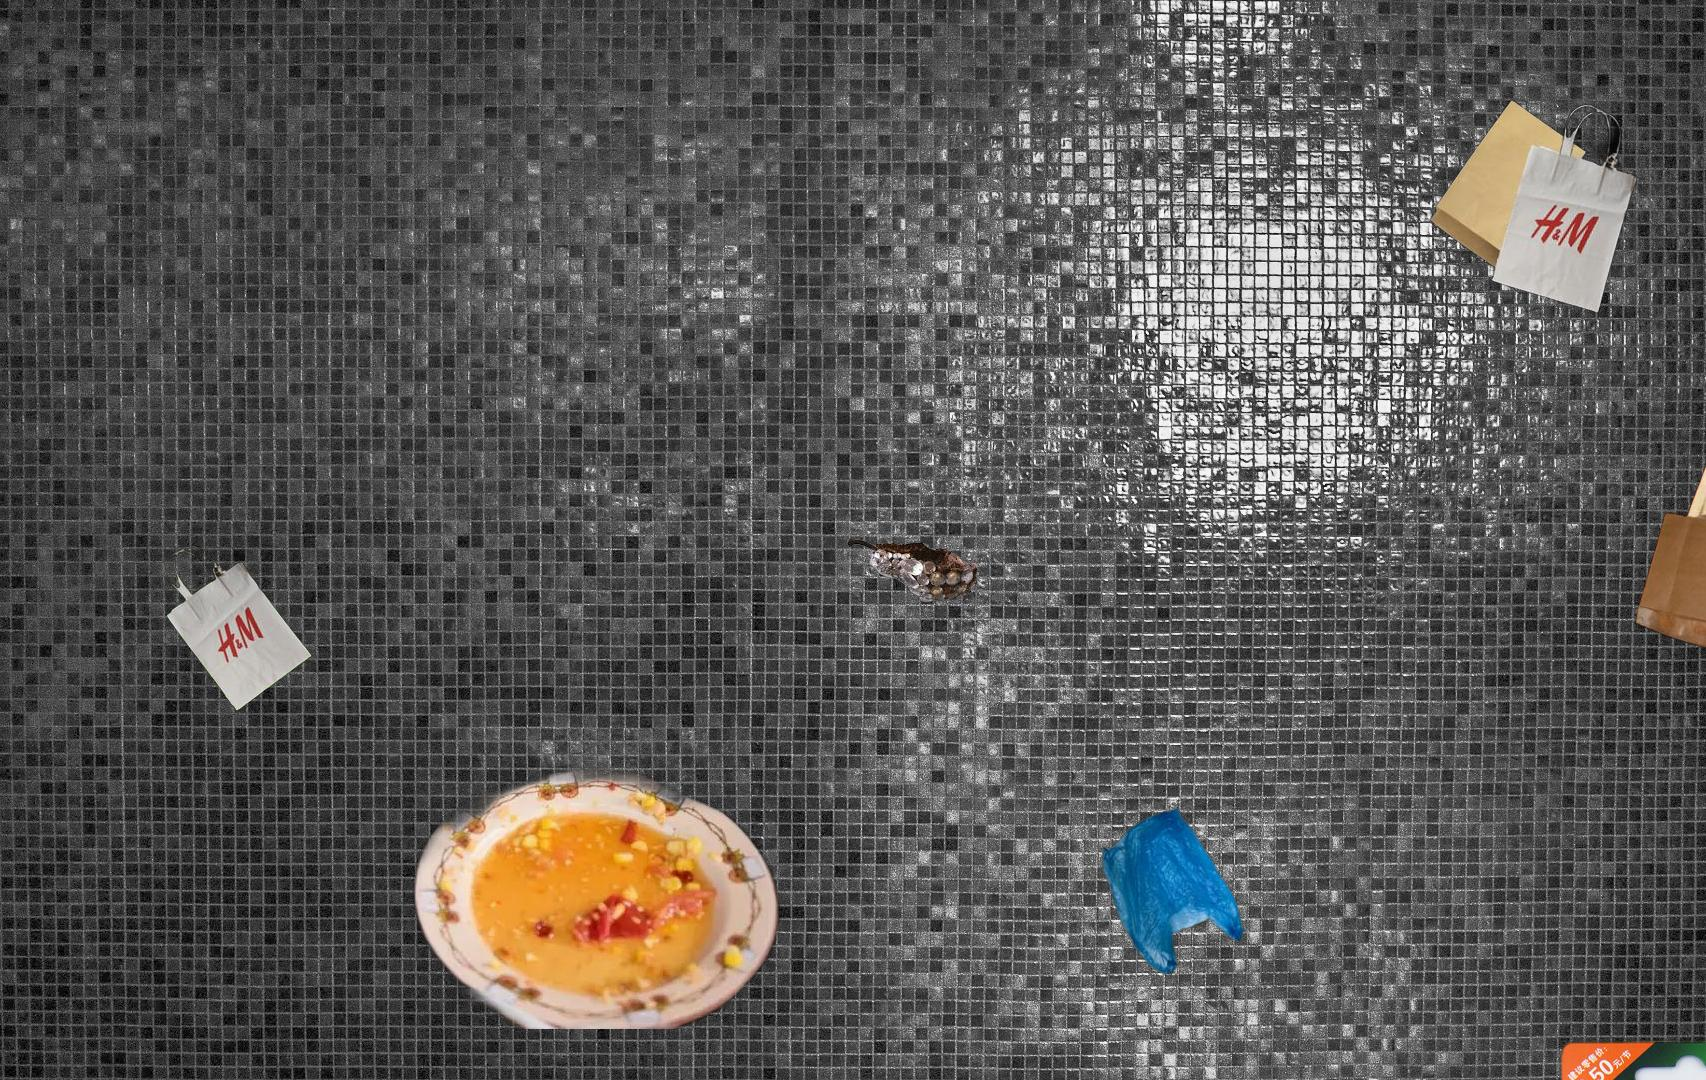battery: (1556, 1033, 1706, 1080)
biological: (247, 534, 812, 1029), (844, 536, 984, 605)
paper-bag: (1427, 99, 1641, 316), (163, 543, 313, 715), (1633, 447, 1706, 666)
plastic-bag: (1099, 807, 1370, 1017)
